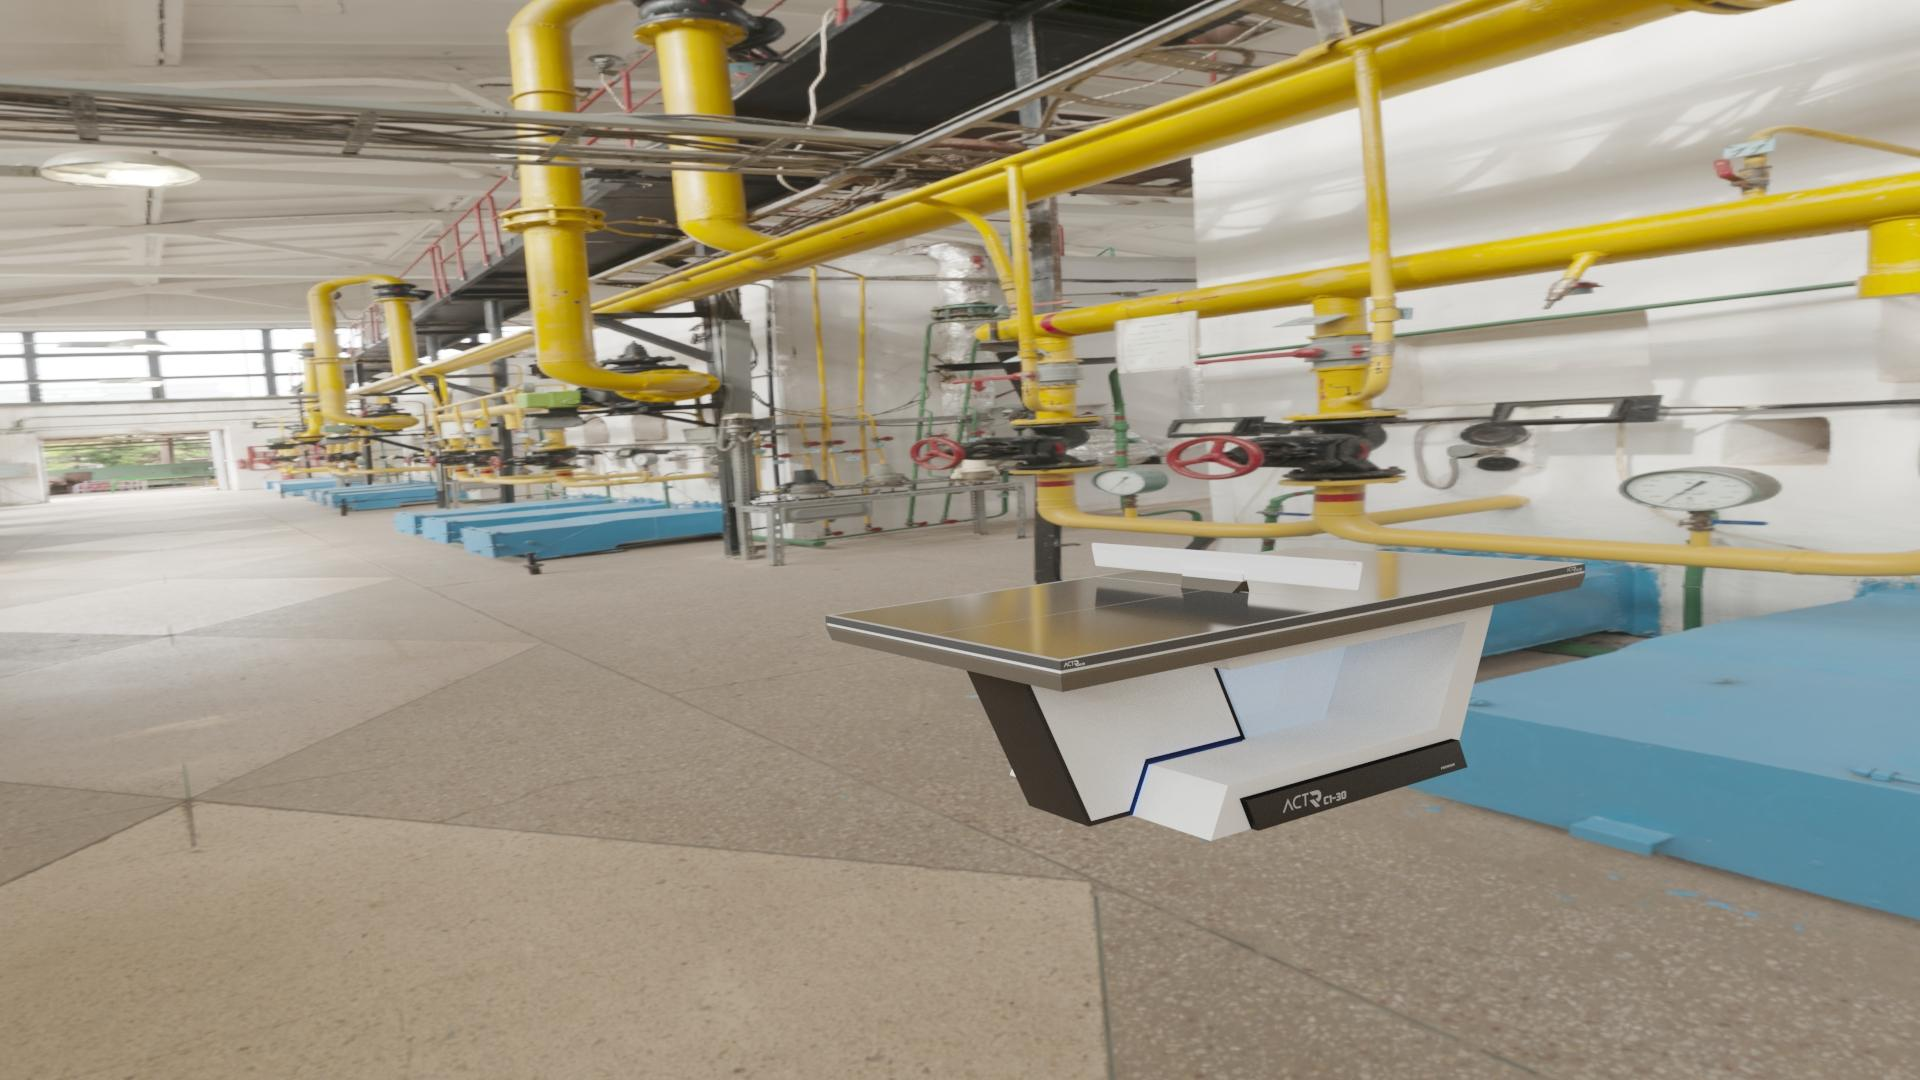table: (832, 547, 1578, 659)
